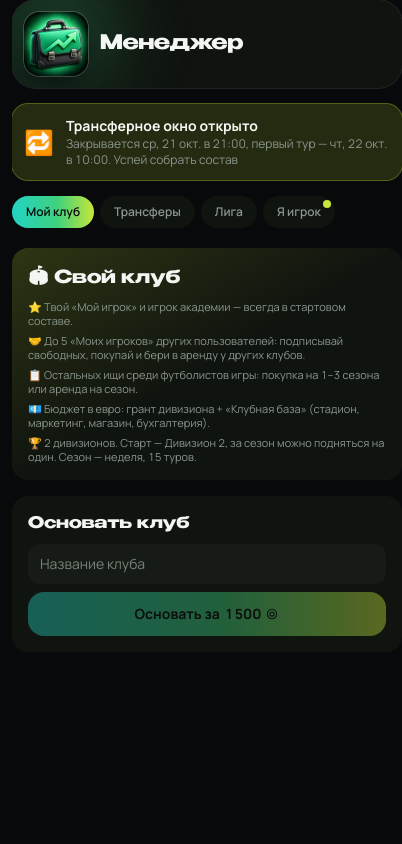
ManagerPage › shows my value with the trend and accepts an incoming offer as a player
Click the button "Я игрок" at x=299, y=212, box [263,196,335,228]
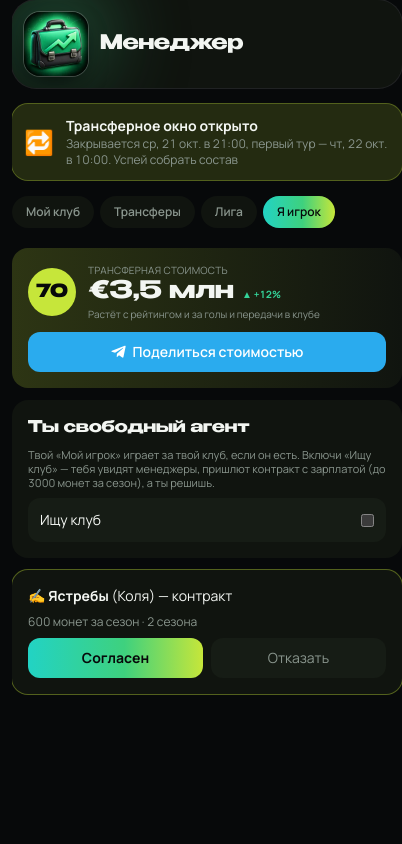
expect the element with test id "my-value" shows "€3,5 млн": met, box [88,280,234,304]
expect the element with test id "my-value" shows "▲ +12%": met, box [242,287,281,301]
Click the button "Согласен" at x=116, y=658, box [28,638,203,678]
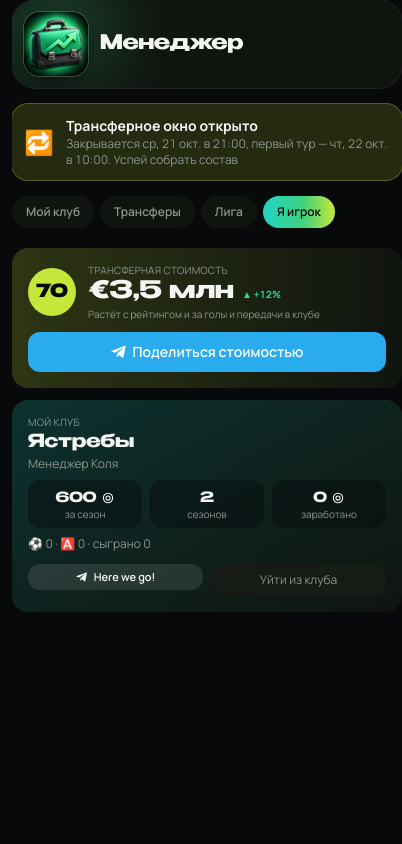
expect the text "Менеджер Коля" is shown: met, box [28,455,118,472]
